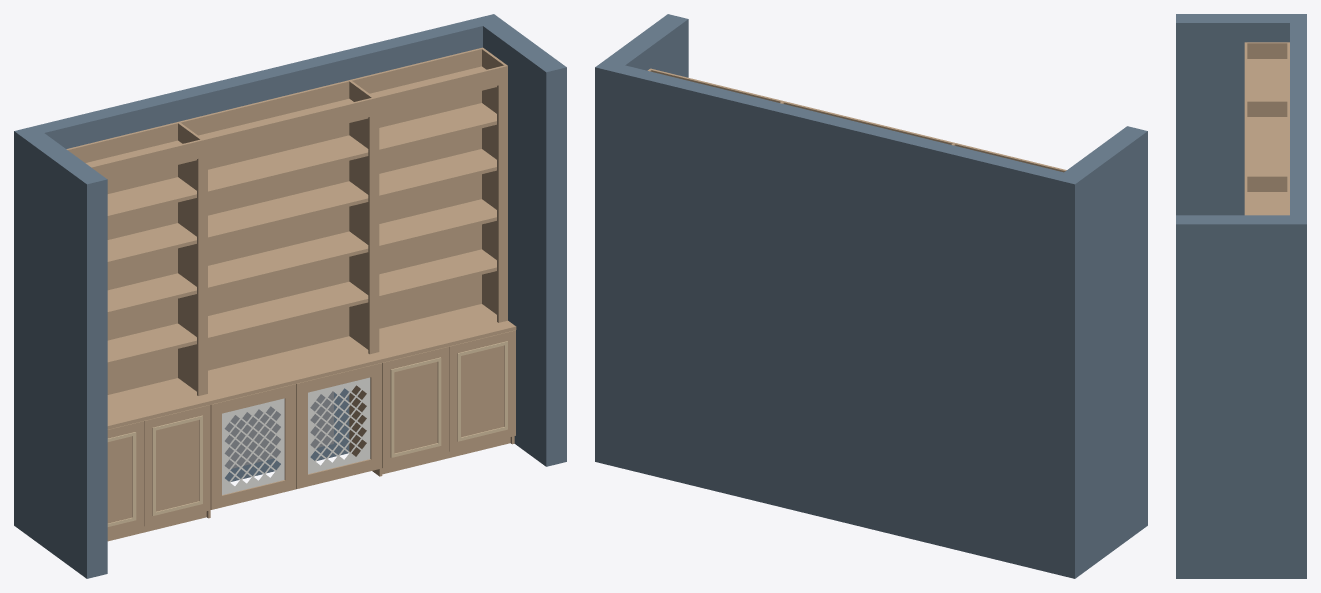
Rendered from bookcase-radiator-cover-east-finchley.glb.
3 renders of one model, left to right at view 1: azimuth 30°, elevation 25°; view 2: azimuth 150°, elevation 25°; view 3: azimuth 270°, elevation 25°, orthographic. The views are drawn at different scales.
Parts seen in each view (by area): view 1: Room: Left wall, Room: Right wall, Room: Back wall, Middle bay: Back, Right bay: Back, Frame: Base top, Left bay: Back, Frame: Top rail, Left bay: Door, right (hinged right), Right bay: Door, left (hinged left), Right bay: Door, right (hinged right), Middle bay: Grille door, left (hinged left) (+30 smaller); view 2: Room: Back wall, Room: Left wall, Room: Right wall, Frame: Top rail; view 3: Room: Right wall, Room: Left wall, Room: Back wall, Middle bay: Top, Left bay: Top, Right bay: Top, Frame: Upright, left end, Frame: Upright, left middle, Frame: Upright, right middle, Frame: Top rail, Middle bay: Back.
Boxes of the visible parts, x1=… form: Room: Left wall: x1=23, y1=133, x2=107, y2=578; Room: Right wall: x1=483, y1=21, x2=566, y2=466; Room: Back wall: x1=14, y1=14, x2=502, y2=532; Middle bay: Back: x1=178, y1=80, x2=350, y2=370; Right bay: Back: x1=349, y1=47, x2=483, y2=328; Frame: Base top: x1=107, y1=304, x2=516, y2=429; Left bay: Back: x1=66, y1=122, x2=178, y2=394; Frame: Top rail: x1=90, y1=65, x2=507, y2=180; Left bay: Door, right (hinged right): x1=144, y1=404, x2=210, y2=526; Right bay: Door, left (hinged left): x1=382, y1=346, x2=448, y2=468; Right bay: Door, right (hinged right): x1=449, y1=330, x2=515, y2=451; Middle bay: Grille door, left (hinged left): x1=210, y1=384, x2=296, y2=509; Room: Back wall: x1=595, y1=60, x2=1084, y2=578; Room: Left wall: x1=1064, y1=126, x2=1147, y2=571; Room: Right wall: x1=605, y1=14, x2=688, y2=77; Frame: Top rail: x1=649, y1=68, x2=1066, y2=172; Room: Right wall: x1=1176, y1=215, x2=1289, y2=578; Room: Left wall: x1=1176, y1=14, x2=1289, y2=215; Room: Back wall: x1=1290, y1=14, x2=1306, y2=578; Middle bay: Top: x1=1247, y1=117, x2=1287, y2=175; Left bay: Top: x1=1247, y1=59, x2=1287, y2=100; Right bay: Top: x1=1247, y1=192, x2=1287, y2=215; Frame: Upright, left end: x1=1247, y1=42, x2=1287, y2=58; Frame: Upright, left middle: x1=1247, y1=100, x2=1287, y2=116; Frame: Upright, right middle: x1=1247, y1=175, x2=1287, y2=191; Frame: Top rail: x1=1244, y1=42, x2=1247, y2=215; Middle bay: Back: x1=1287, y1=101, x2=1289, y2=175.
Size of the model in its own units: 3.5 by 2.75 by 0.92.
